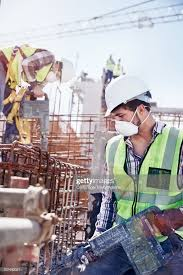Helmet: (101, 80, 147, 109)
Jacket: (106, 137, 183, 233)
Mask: (113, 119, 142, 138)
